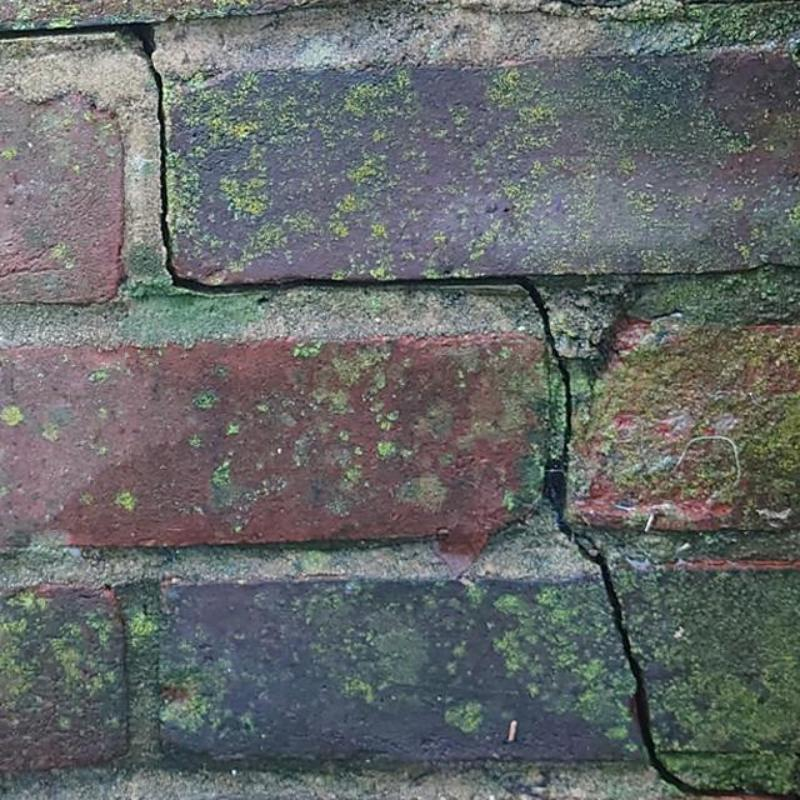crack: (519, 278, 800, 800), (1, 23, 517, 296)
